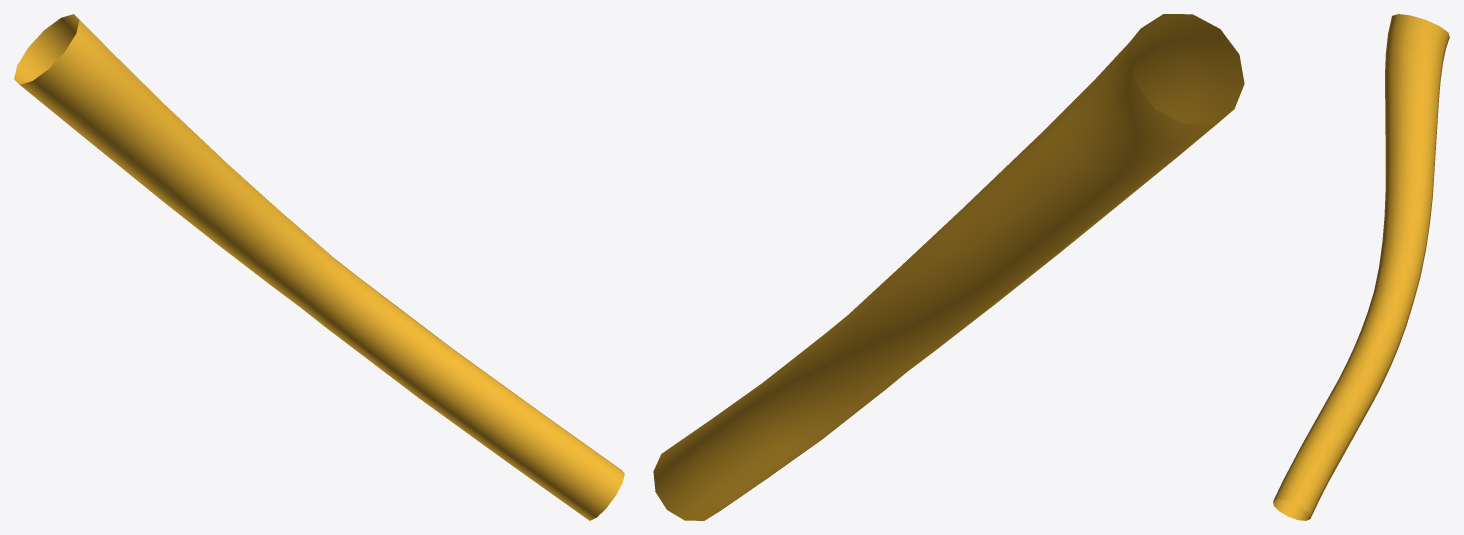
The model's file is nervoso-anterior-division-of-inferior-trunk-of-brachial-plexus-l.glb.
3 views of the same model, side by side, from view 1: azimuth 30°, elevation 25°; view 2: azimuth 150°, elevation 25°; view 3: azimuth 270°, elevation 25° (orthographic). The views are drawn at different scales.
Parts seen in each view (by area): view 1: Anterior division of inferior trunk of brachial plexus.l; view 2: Anterior division of inferior trunk of brachial plexus.l; view 3: Anterior division of inferior trunk of brachial plexus.l.
Part boxes in pixels (x1,y1,x2,y2): Anterior division of inferior trunk of brachial plexus.l: (14, 14, 624, 520); Anterior division of inferior trunk of brachial plexus.l: (653, 14, 1244, 520); Anterior division of inferior trunk of brachial plexus.l: (1273, 14, 1449, 520).
Size of the model in its own units: 0.0194 by 0.0195 by 0.00856.
